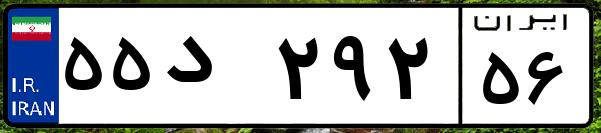2: (270, 28, 330, 110), (385, 28, 445, 110)
5: (57, 26, 110, 100), (475, 38, 525, 113), (110, 28, 158, 98)
6: (525, 38, 570, 115)
9: (330, 28, 385, 110)
د: (158, 20, 270, 120)
